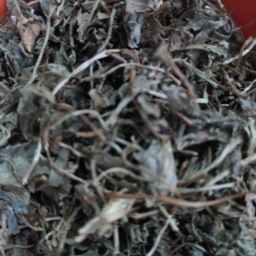Fenugeek (dried): (162, 3, 254, 226), (4, 117, 144, 256), (144, 108, 256, 256), (10, 3, 122, 133), (109, 2, 195, 137)
